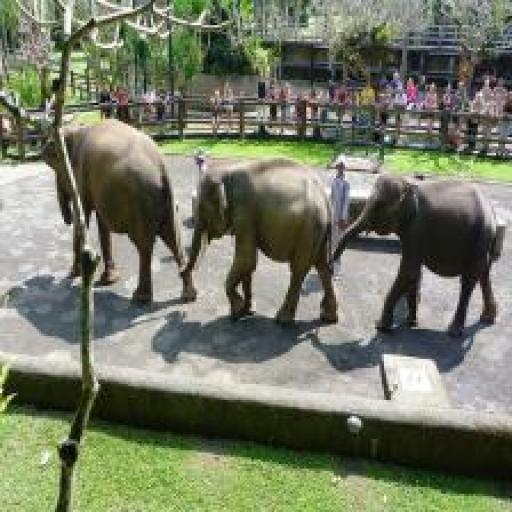Elephant: (39, 119, 196, 308), (178, 153, 341, 328), (327, 171, 499, 335)
